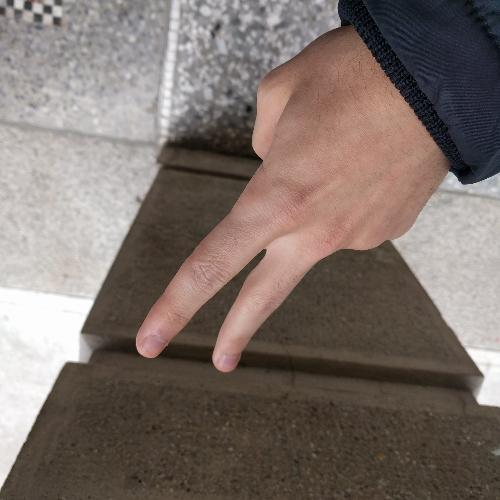scissors: (128, 24, 450, 384)
